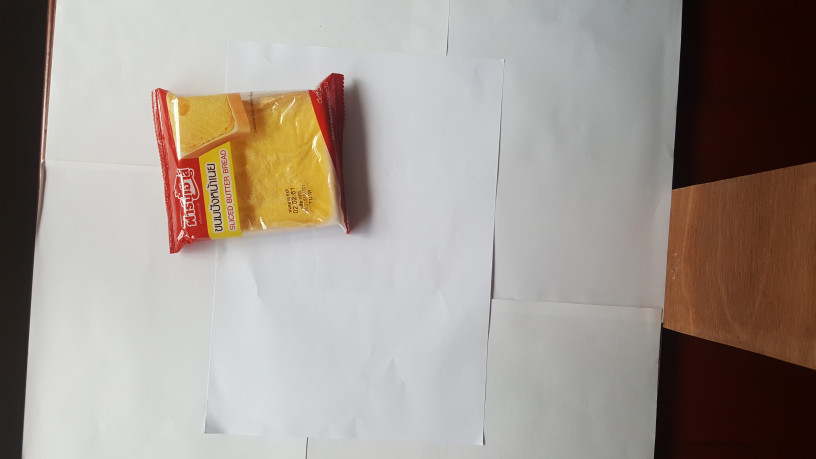farmhouse-bread-butter: (145, 68, 356, 260)
